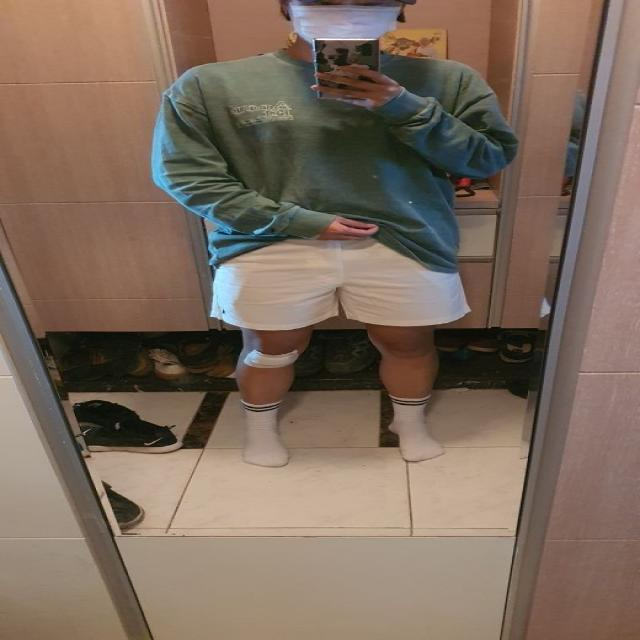longsleeve: (152, 43, 509, 279)
shortpants: (209, 233, 476, 326)
